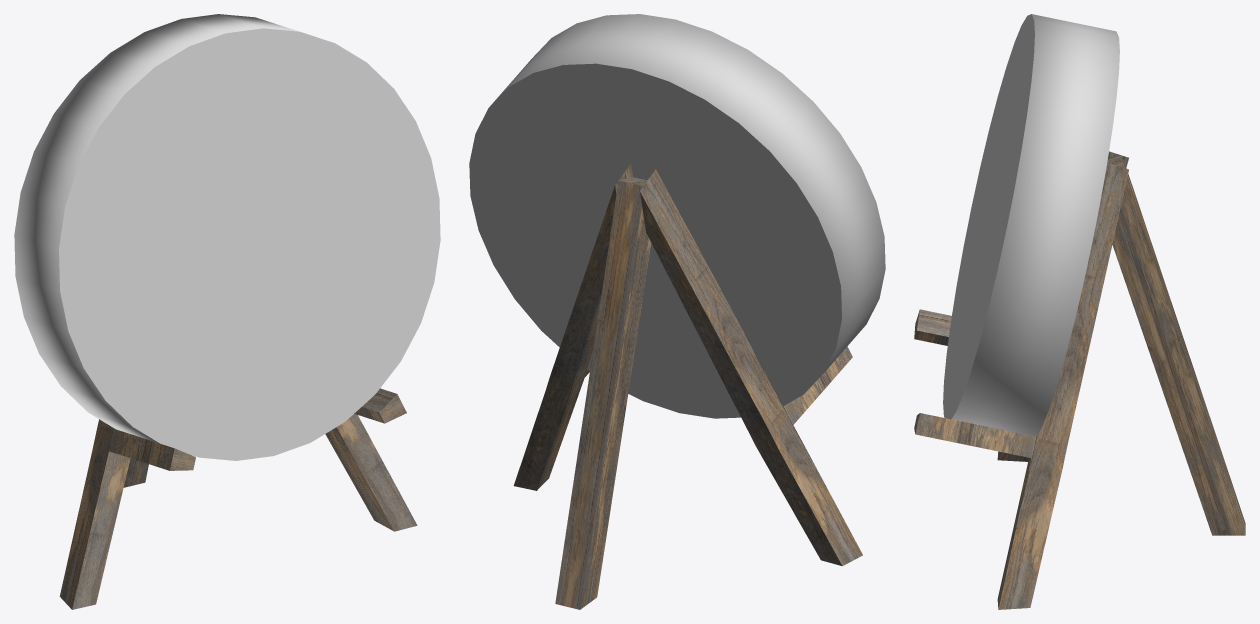
File: SM_Archerytarget_01.fbx
The picture shows the model from 3 angles, left to right: view 1: azimuth 30°, elevation 25°; view 2: azimuth 150°, elevation 25°; view 3: azimuth 270°, elevation 25°; orthographic projection. The views are drawn at different scales.
Visible parts, largest first — view 1: Target.001; view 2: Target.001; view 3: Target.001.
Boxes of the visible parts, <box> form: Target.001: <box>14,14,440,609</box>; Target.001: <box>469,14,885,609</box>; Target.001: <box>914,14,1245,609</box>.
Bounding box in the file's own units: 120 × 157 × 95.15.
